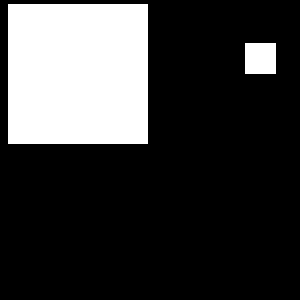circle: (8, 4, 148, 144), (245, 43, 276, 74)
